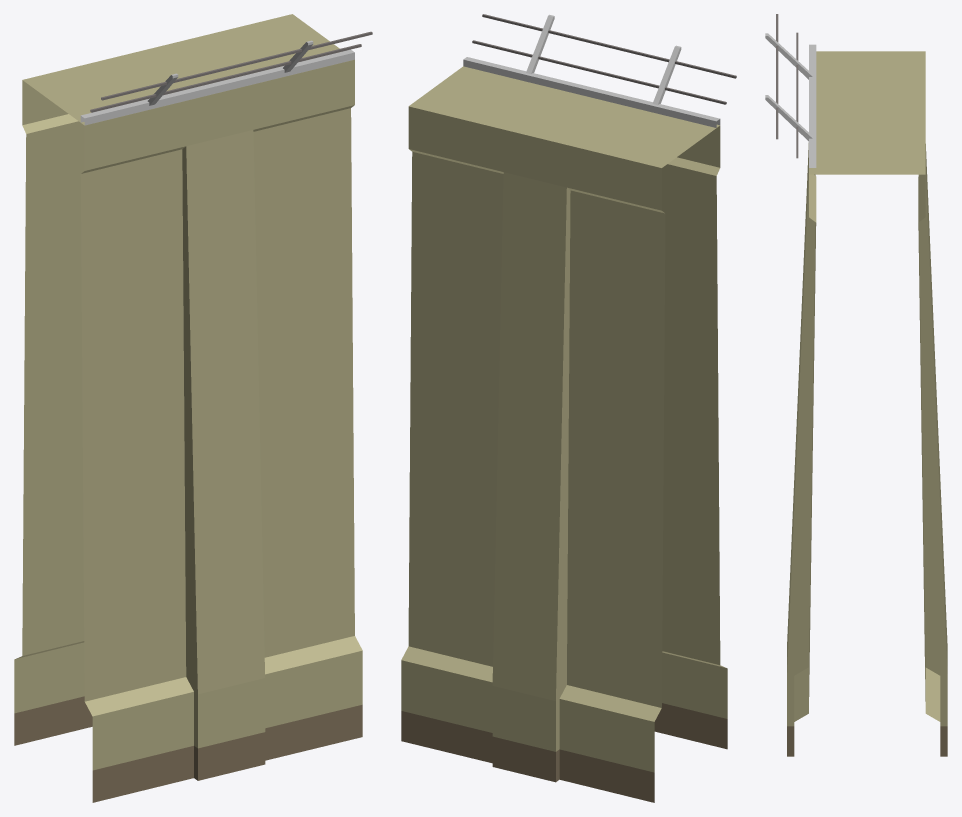
The model's file is SM_Wall_Big_400.FBX.
3 views of the same model, side by side, from view 1: azimuth 30°, elevation 25°; view 2: azimuth 150°, elevation 25°; view 3: azimuth 270°, elevation 25° (orthographic). The views are drawn at different scales.
Visible parts, largest first — view 1: SM_Wall_Big_400; view 2: SM_Wall_Big_400; view 3: SM_Wall_Big_400.
Boxes of the visible parts, x1,y1,x2,y2 form: SM_Wall_Big_400: (14, 14, 372, 802); SM_Wall_Big_400: (401, 14, 736, 802); SM_Wall_Big_400: (765, 14, 947, 756).
Size of the model in its own units: 400 by 250 by 1022.
